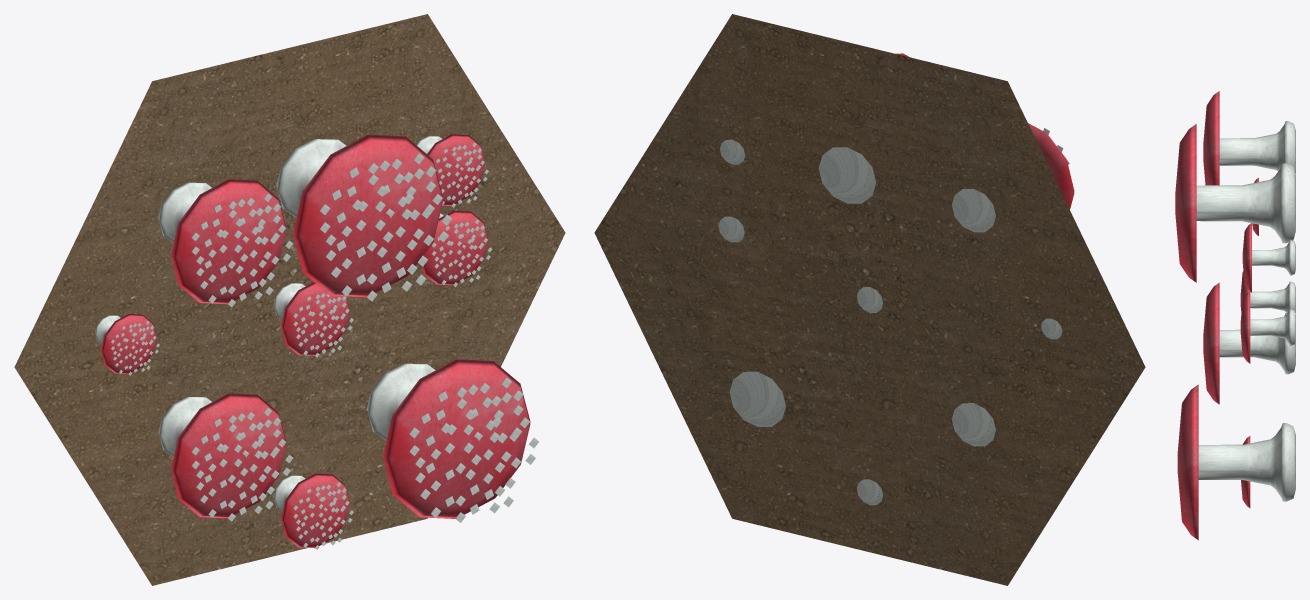
File: farm_floor_GEO_01.fbx
3 views of the same model, side by side, from view 1: azimuth 30°, elevation 25°; view 2: azimuth 150°, elevation 25°; view 3: azimuth 270°, elevation 25° (orthographic). The views are drawn at different scales.
Visible parts, largest first — view 1: farm_HEX_01; view 2: farm_HEX_01; view 3: farm_HEX_01.
Part boxes in pixels (left/top/right/bottom): farm_HEX_01: left=14, top=14, right=565, bottom=585; farm_HEX_01: left=594, top=14, right=1145, bottom=585; farm_HEX_01: left=1175, top=91, right=1295, bottom=540.
Size of the model in its own units: 2 by 1.75 by 0.4274.
3 materials, 3 textured.
